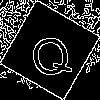Q: (25, 25, 75, 82)
